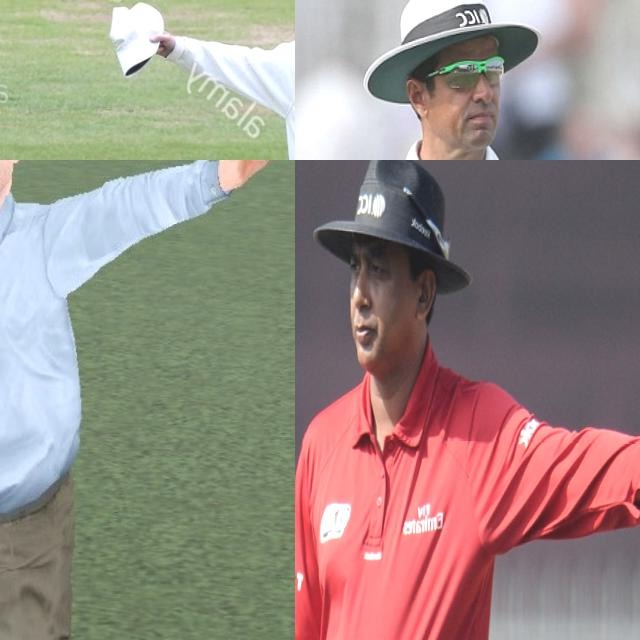No_Action: (295, 0, 637, 160)
No_Ball: (295, 160, 640, 640), (0, 160, 295, 640)
Wide: (28, 0, 295, 160)
